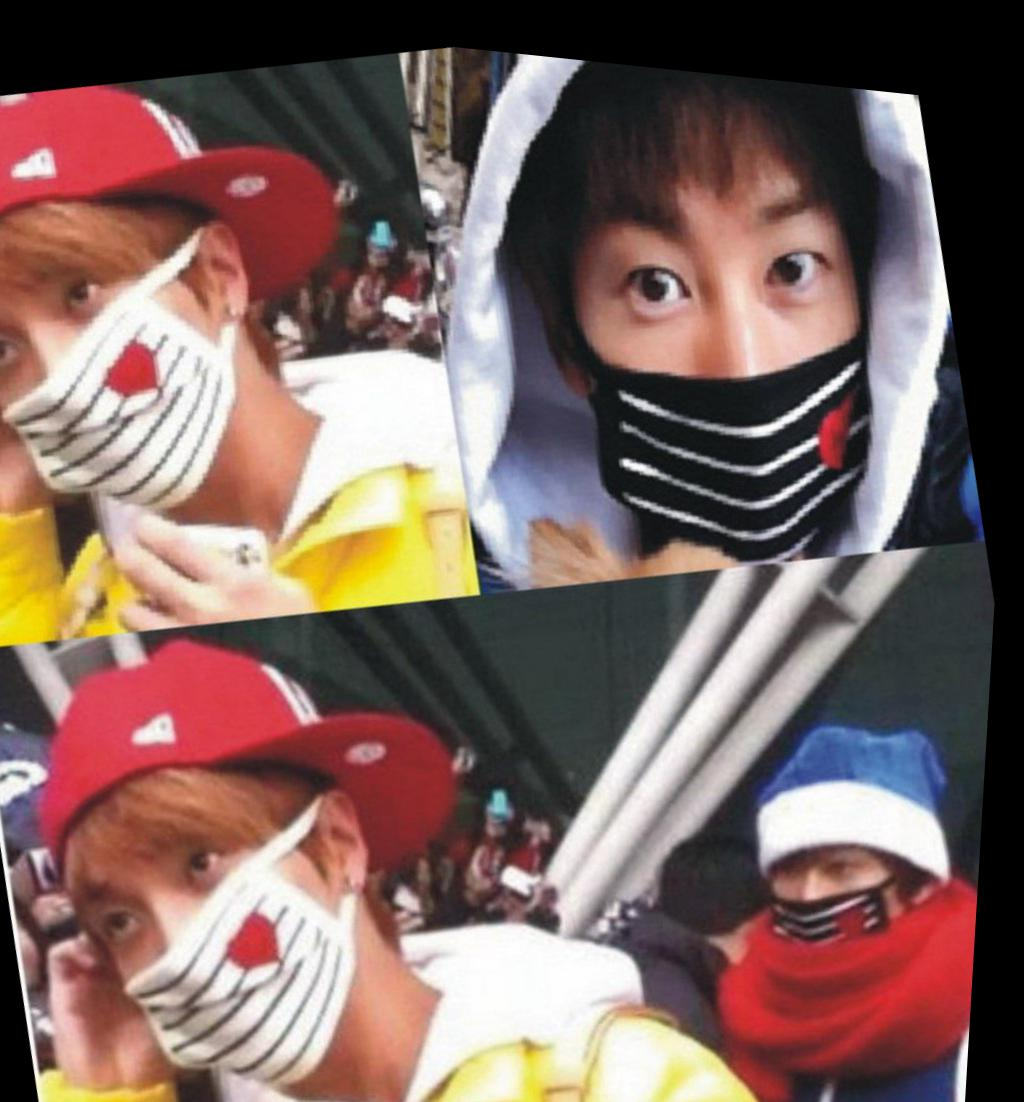WRONG: (538, 137, 895, 539), (63, 791, 377, 1102), (1, 191, 270, 548), (754, 792, 943, 987)
